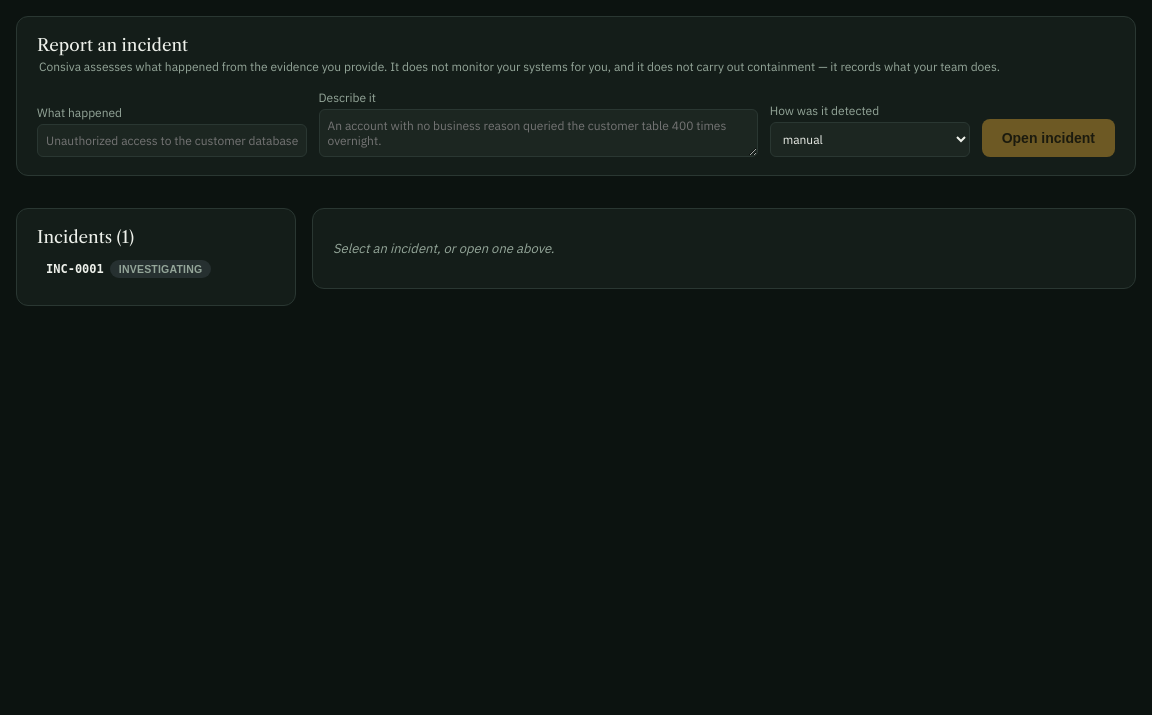
Test case: BreachConsole: analysis-progress polling › stops polling on unmount instead of leaking a timer against a gone component
Click the button "INC-0001 investigating" at (156, 269), box [37,251,275,287]
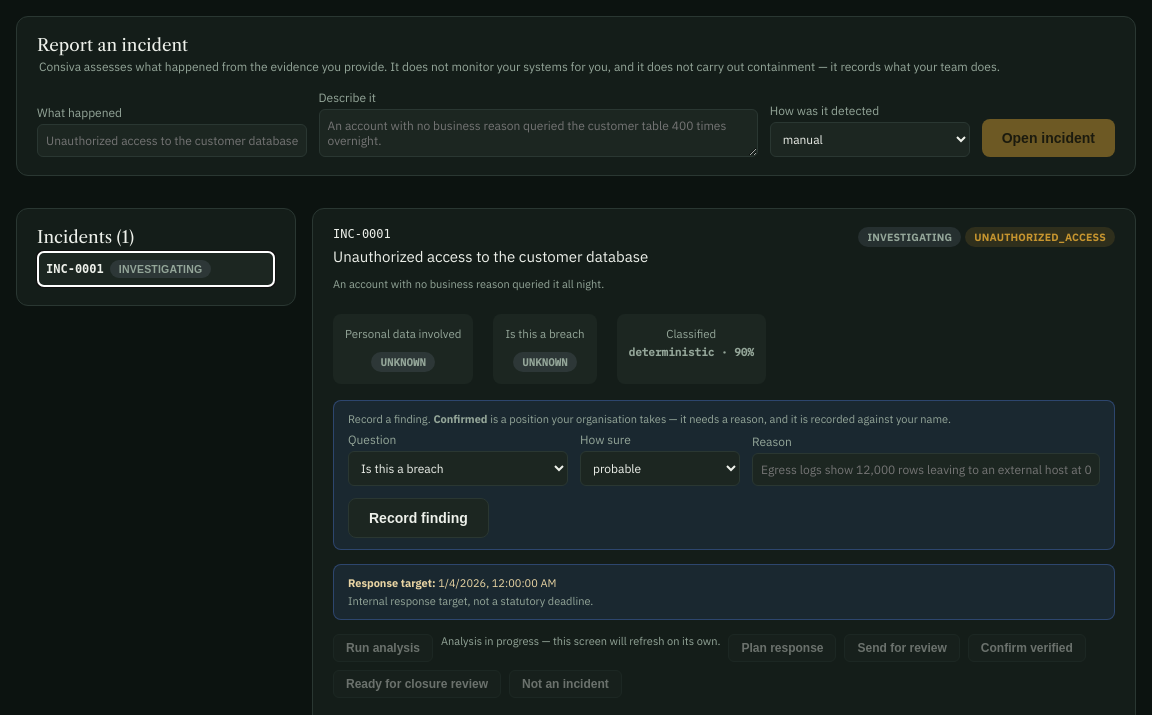
Result: the text "Analysis in progress — this screen will refresh on its own." is shown at [441,634,720,648]
